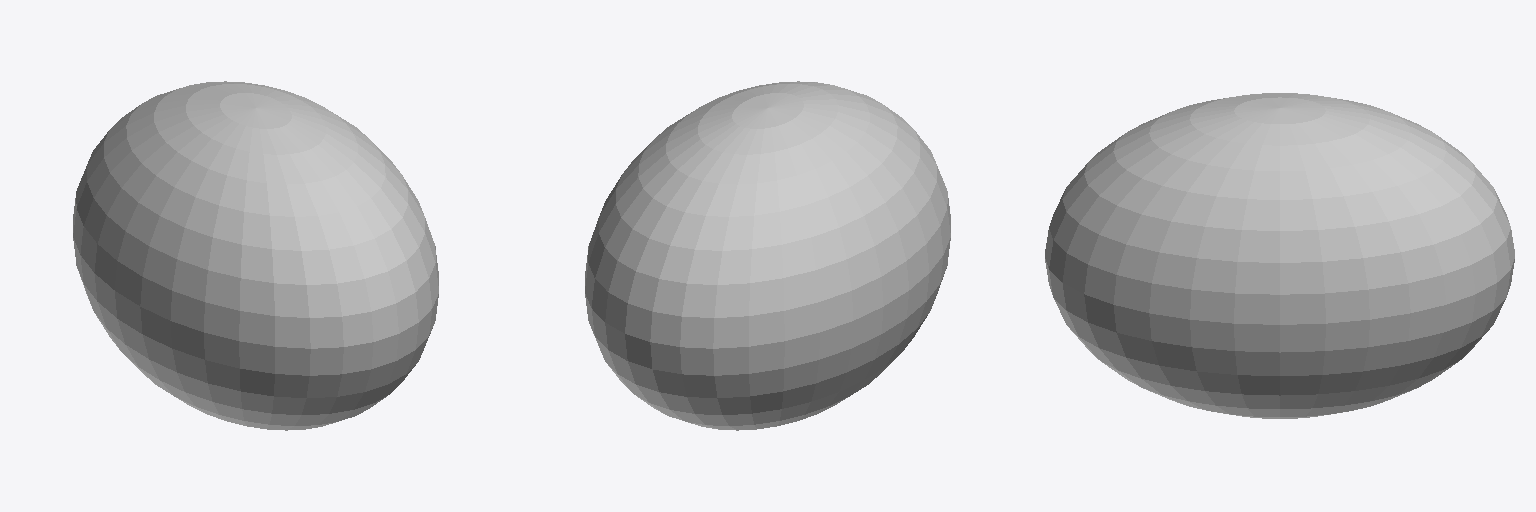
File: shipBounds.obj
The picture shows the model from 3 angles: view 1: azimuth 30°, elevation 25°; view 2: azimuth 150°, elevation 25°; view 3: azimuth 270°, elevation 25°; orthographic projection.
Visible parts, largest first — view 1: Sphere; view 2: Sphere; view 3: Sphere.
Part boxes in pixels (left/top/right/bottom): Sphere: left=73, top=81, right=438, bottom=430; Sphere: left=585, top=81, right=950, bottom=430; Sphere: left=1045, top=93, right=1514, bottom=418.
Bounding box in the file's own units: 1.87 × 1.87 × 2.7.